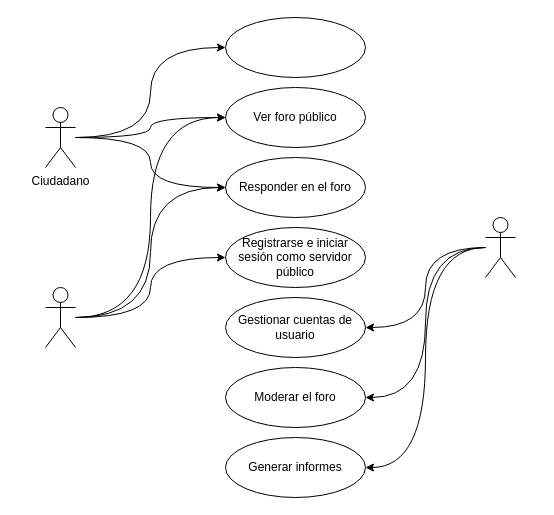
Image size: 554x515. Some labels were removed from this diagram. The shapes that lost their labels are listed below. From the top down, each one's centre as x and y in pixels, then its label:
At (295,47): "Registrarse e iniciar sesión como ciudadano".
At (500,247): "Administrador del sistema".
At (60,317): "Servidor público".
